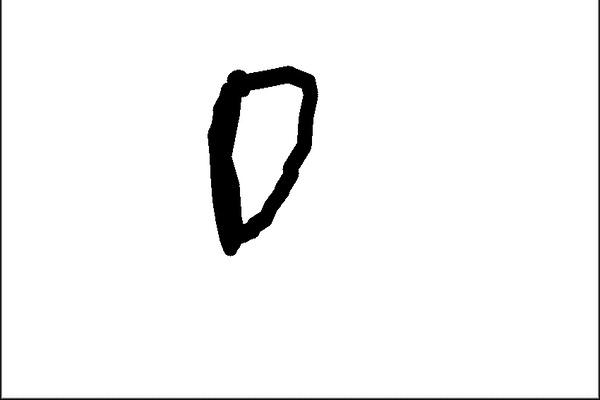D: (200, 60, 327, 260)
